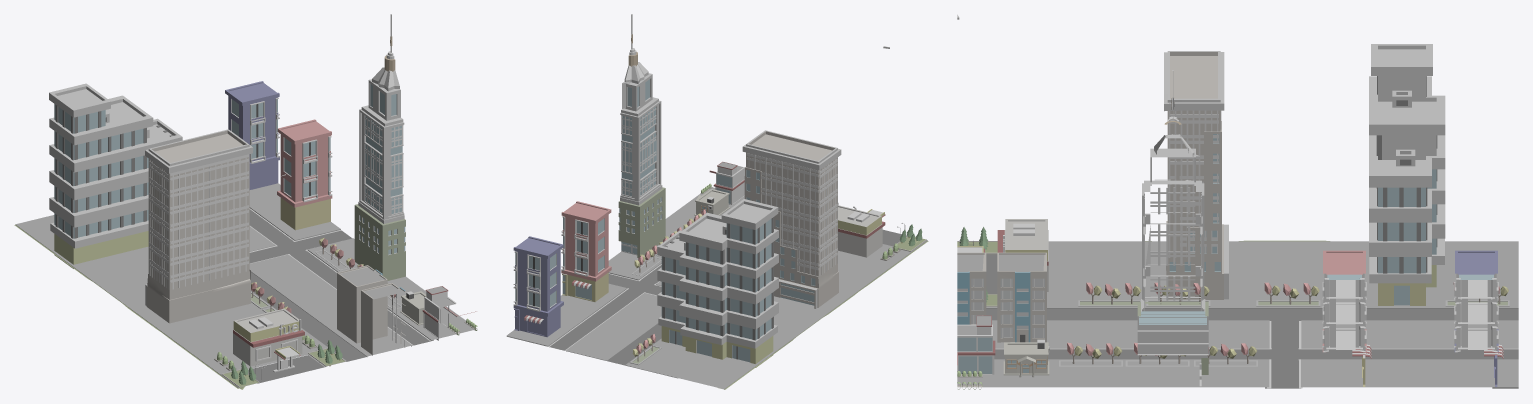
The model's file is ciudad.glb.
3 renders of one model, left to right at view 1: azimuth 30°, elevation 25°; view 2: azimuth 150°, elevation 25°; view 3: azimuth 270°, elevation 25°, orthographic. The views are drawn at different scales.
Visible parts, largest first — view 1: chunk; view 2: chunk; view 3: chunk.
Boxes of the visible parts, bbox=[...] form: chunk: bbox=[14, 14, 477, 389]; chunk: bbox=[506, 14, 928, 389]; chunk: bbox=[957, 14, 1518, 389].
Bounding box in the file's own units: 64 × 65.46 × 103.
